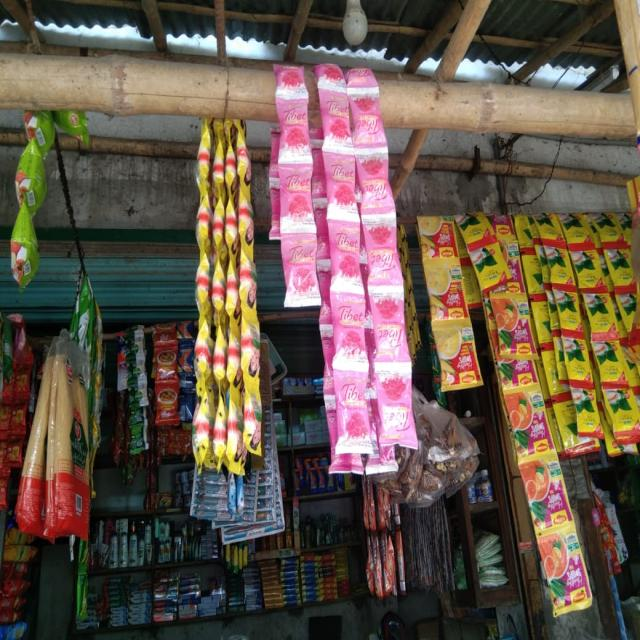non-ubl: (373, 364, 417, 458), (332, 366, 376, 448), (279, 230, 321, 308), (276, 161, 316, 227), (371, 290, 407, 362), (334, 297, 369, 366), (369, 214, 402, 287), (334, 222, 364, 297), (358, 160, 396, 219), (351, 96, 388, 154), (326, 159, 360, 221), (279, 95, 310, 162), (322, 96, 350, 146), (415, 286, 415, 287)
